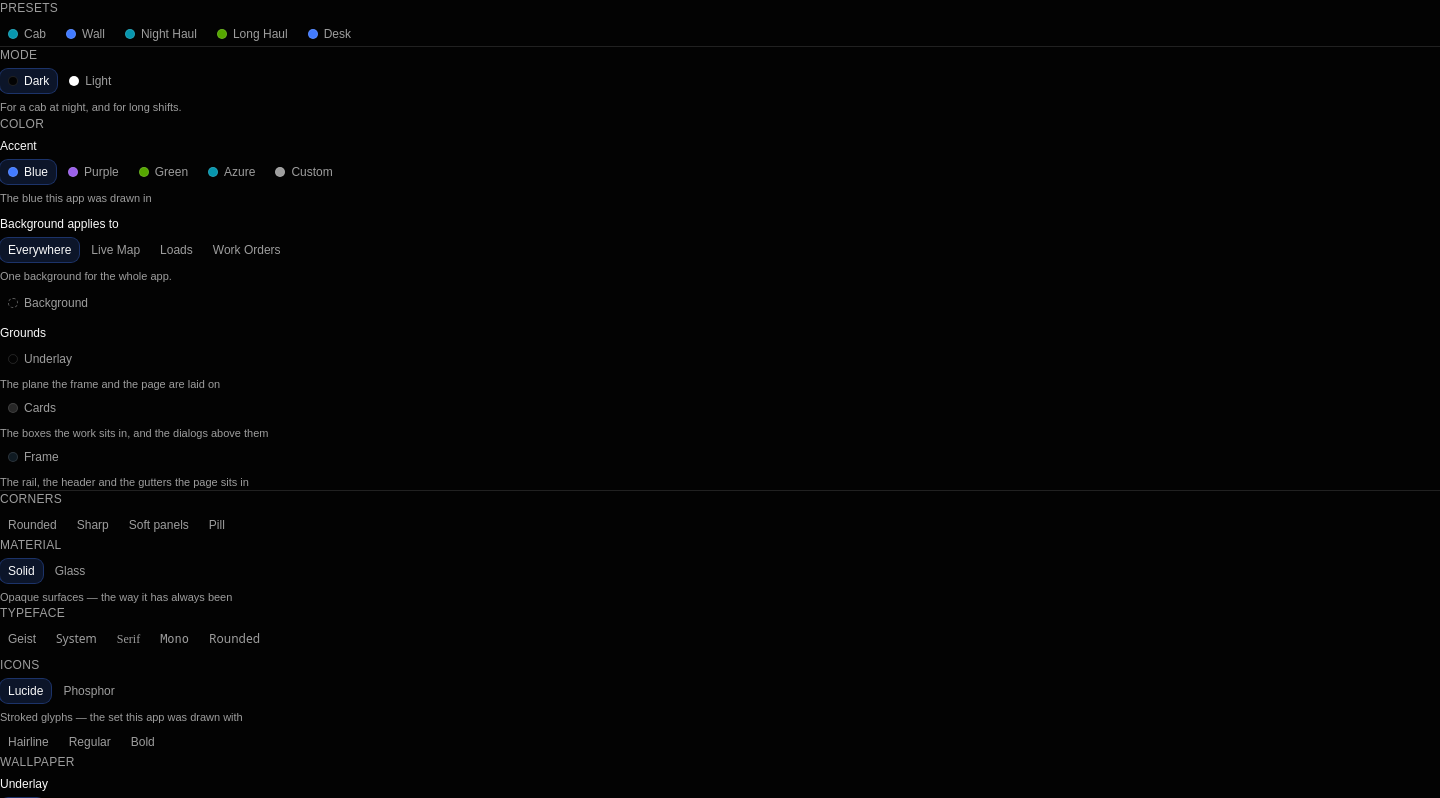
Test: the row asks the place first, then the colour › and the picker names the place it is aimed at
The width and height of the screenshot is (1440, 798).
Click the button "Loads": (176, 250) left=152, top=238, right=201, bottom=262
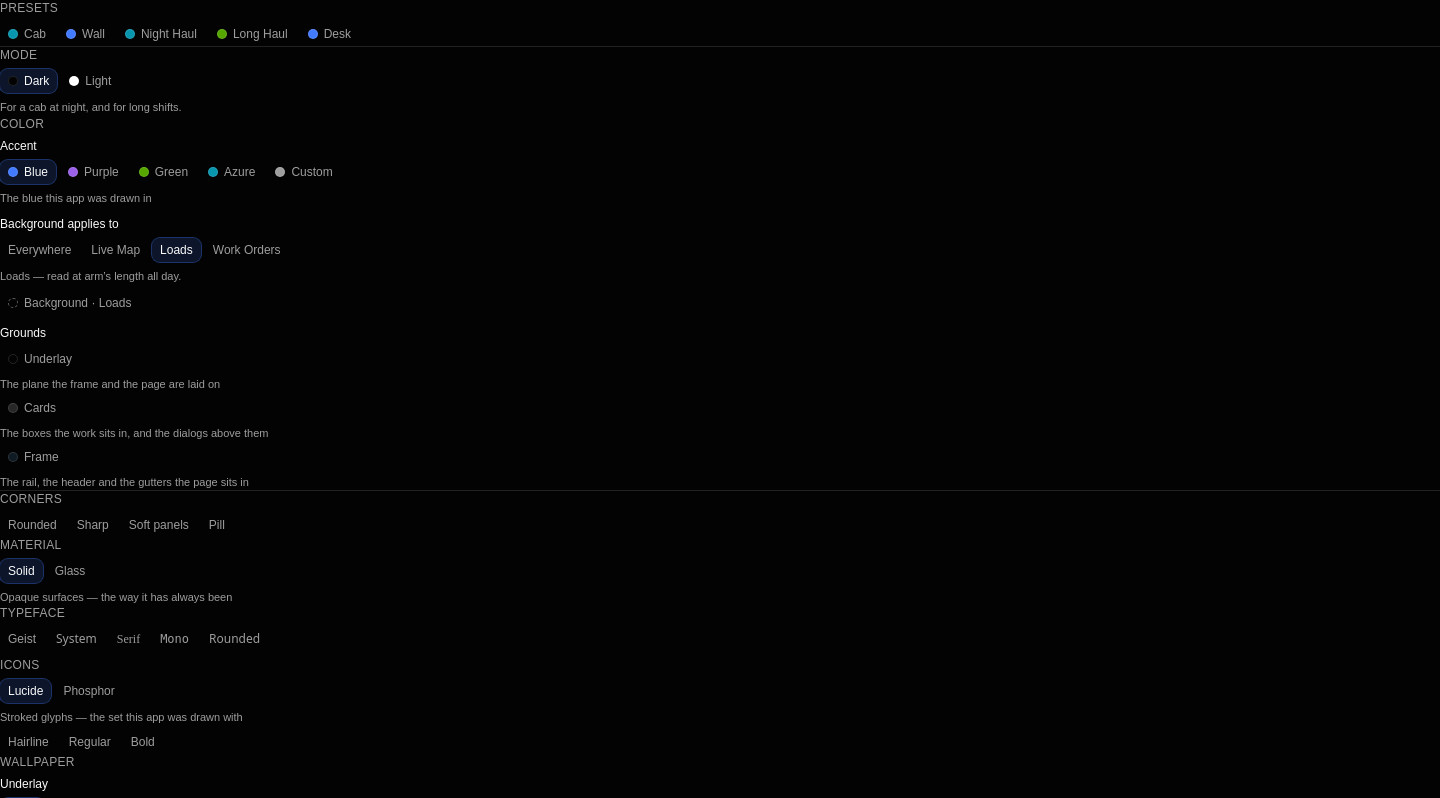
Check: the button "Background · Loads" is shown, box left=0, top=290, right=139, bottom=314
